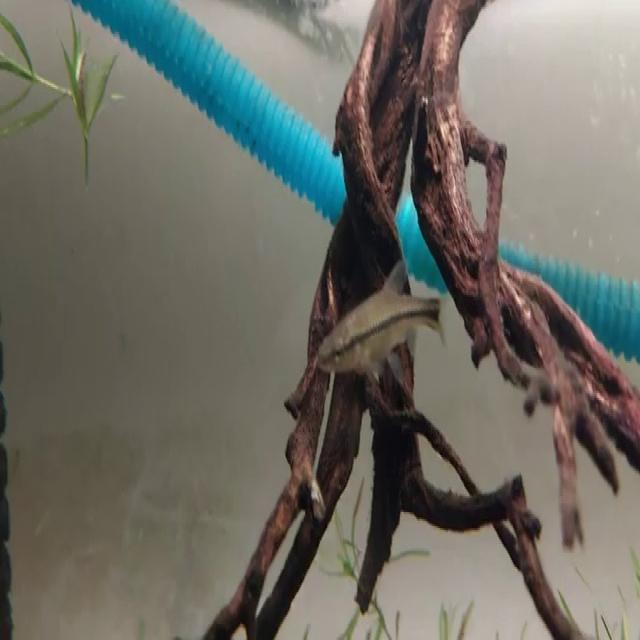Cakil Baligi: (314, 256, 445, 384)
